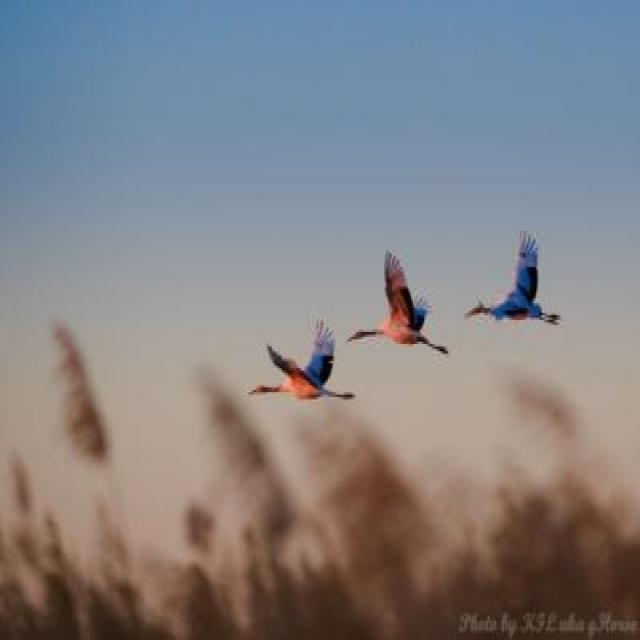birds: (344, 235, 456, 377), (464, 217, 564, 357), (239, 319, 360, 431)
